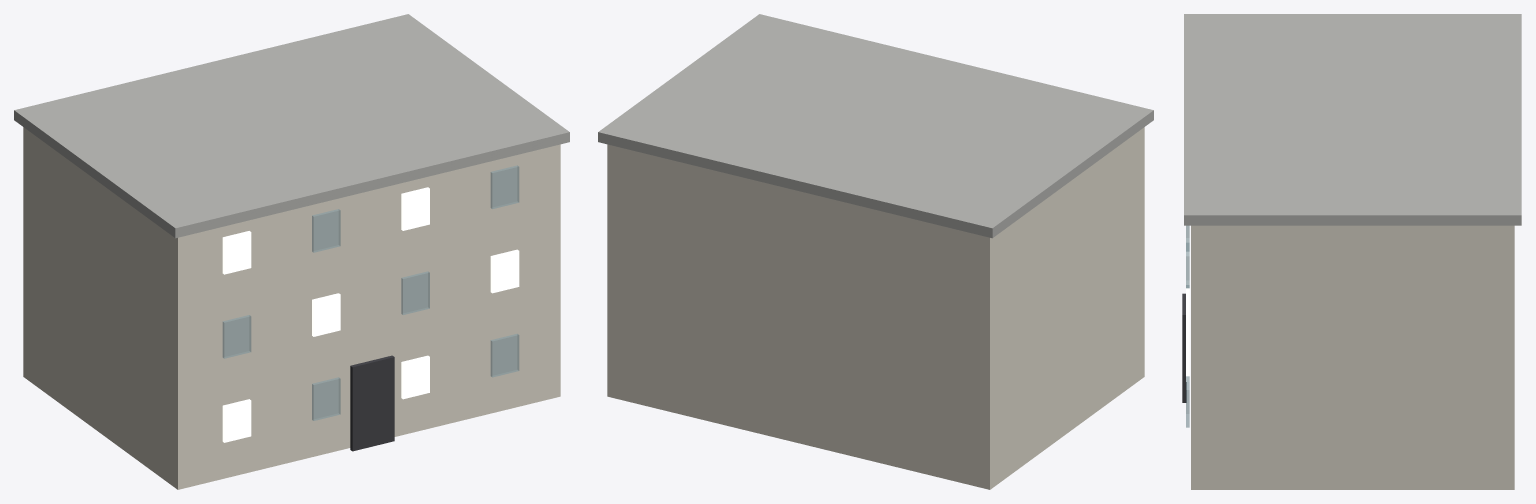
Rendered from building_shop_02.glb.
The picture shows the model from 3 angles, left to right: view 1: azimuth 30°, elevation 25°; view 2: azimuth 150°, elevation 25°; view 3: azimuth 270°, elevation 25°; orthographic projection. The views are drawn at different scales.
Visible parts, largest first — view 1: Mass.001, Roof.001, Door.001, W_0_0.001, W_1_3, W_2_0.001, W_2_3, W_0_3, W_1_0.001, W_2_2.001, W_0_2.001, W_1_1.001 (+3 smaller); view 2: Mass.001, Roof.001; view 3: Mass.001, Roof.001, Door.001.
Boxes of the visible parts, x1=… form: Mass.001: x1=23, y1=127, x2=560, y2=489; Roof.001: x1=14, y1=14, x2=569, y2=238; Door.001: x1=350, y1=355, x2=394, y2=451; W_0_0.001: x1=222, y1=399, x2=251, y2=442; W_1_3: x1=490, y1=249, x2=519, y2=293; W_2_0.001: x1=222, y1=231, x2=251, y2=274; W_2_3: x1=490, y1=165, x2=519, y2=208; W_0_3: x1=490, y1=334, x2=519, y2=377; W_1_0.001: x1=222, y1=315, x2=251, y2=358; W_2_2.001: x1=401, y1=187, x2=429, y2=230; W_0_2.001: x1=401, y1=355, x2=429, y2=399; W_1_1.001: x1=312, y1=293, x2=340, y2=336; Mass.001: x1=607, y1=127, x2=1144, y2=489; Roof.001: x1=598, y1=14, x2=1153, y2=238; Mass.001: x1=1191, y1=225, x2=1514, y2=489; Roof.001: x1=1184, y1=14, x2=1521, y2=225; Door.001: x1=1182, y1=293, x2=1186, y2=402.
Size of the model in its own units: 10.3 by 6.62 by 7.34.
